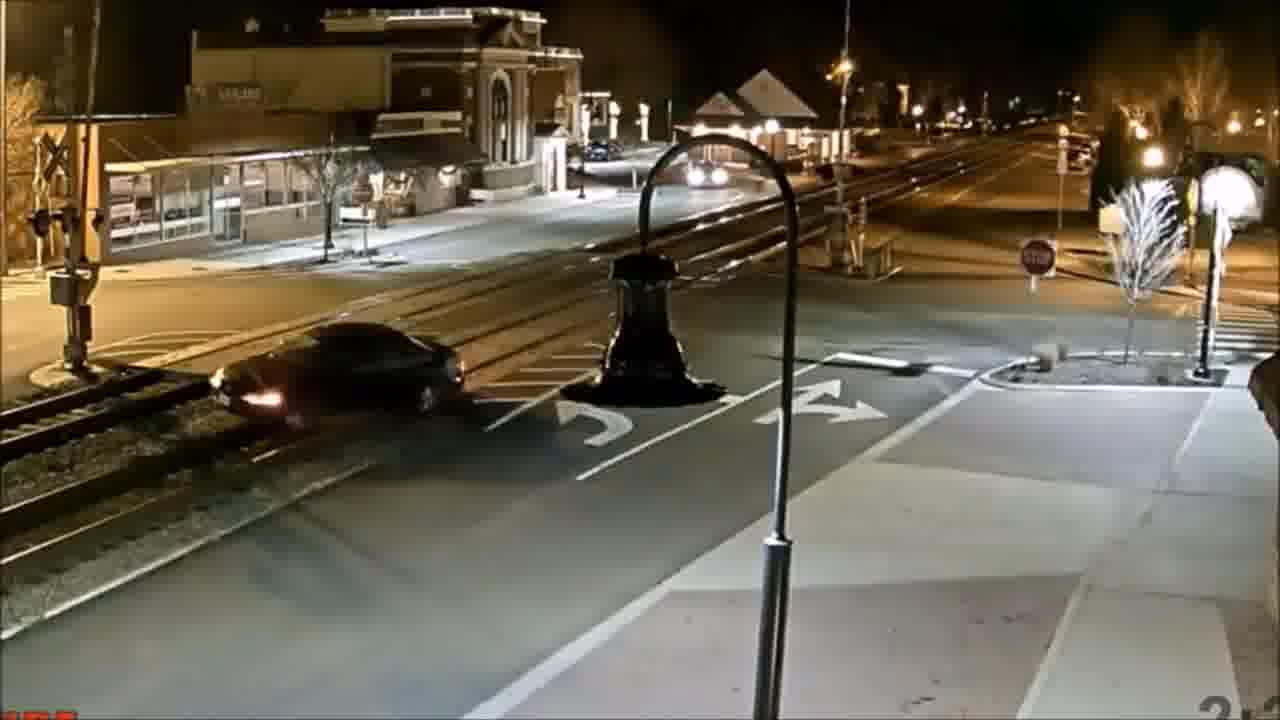crossing railway track: (199, 314, 466, 435)
